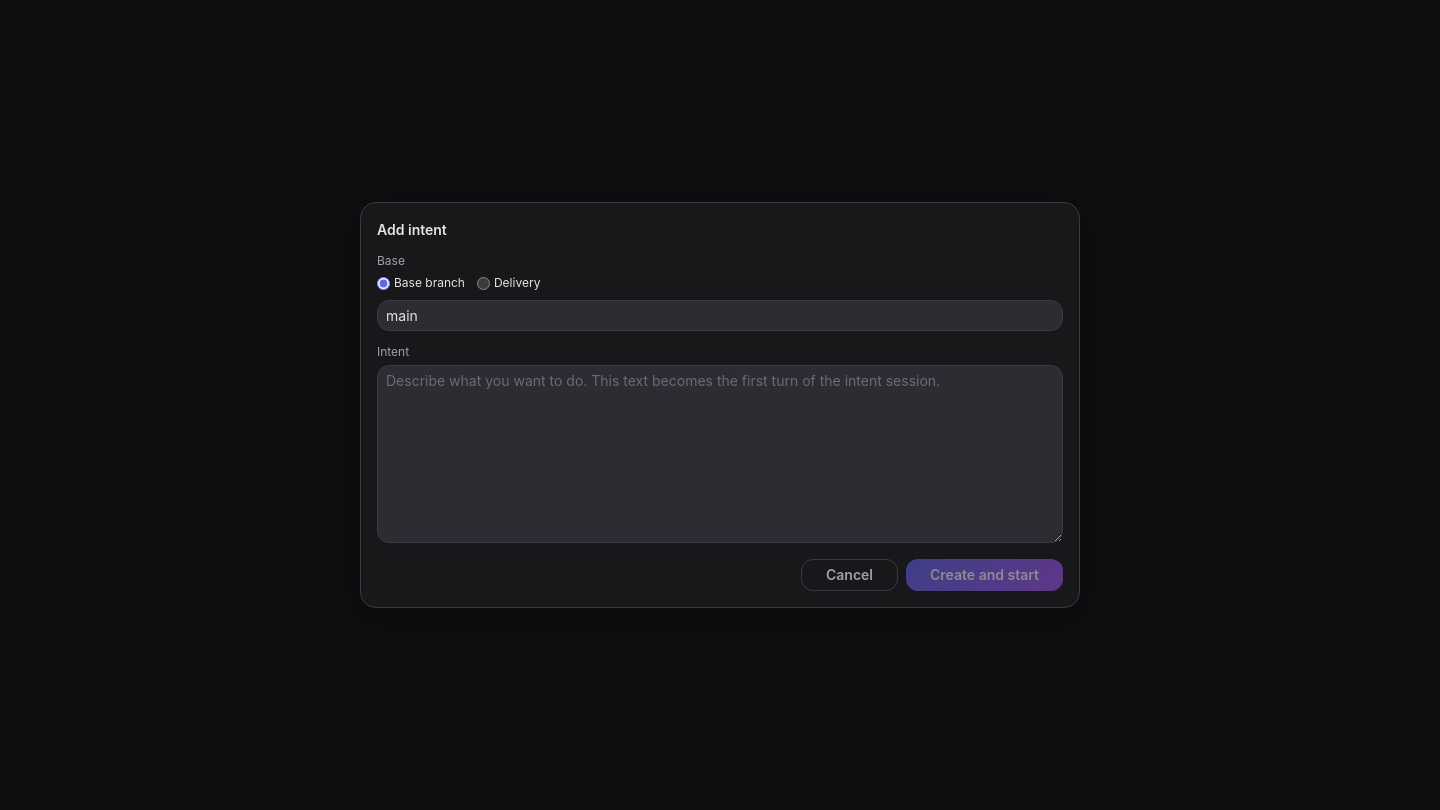
Test case: CreateIntentDialog — 基准来源互斥与默认 › 切到交付支后只剩交付下拉,分支输入消失
Click the radio button with test id "create-intent-base-delivery".
click(484, 283)  # box [477,276,490,290]
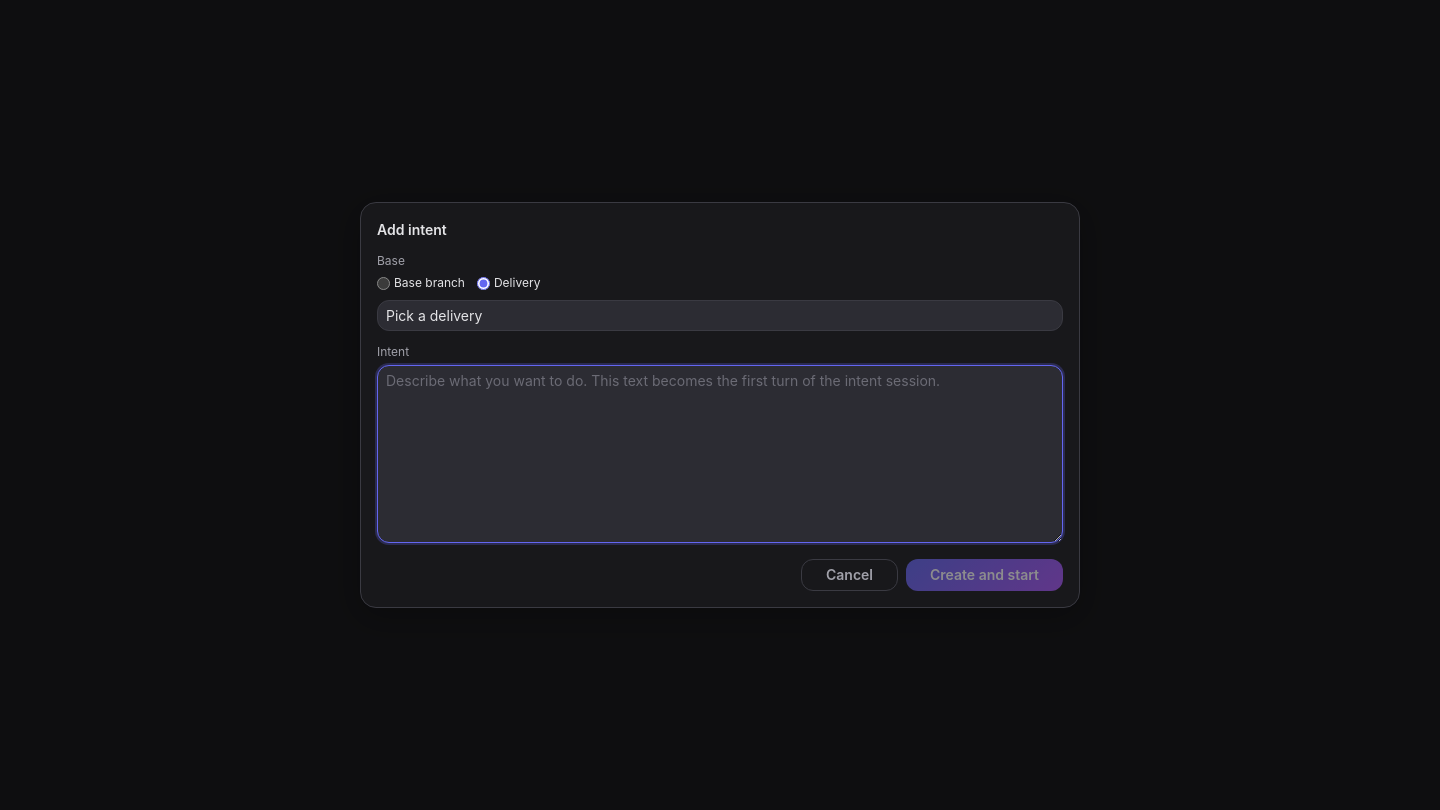
Check: the dropdown with test id "create-intent-delivery" is shown, box [377,300,1063,331]
